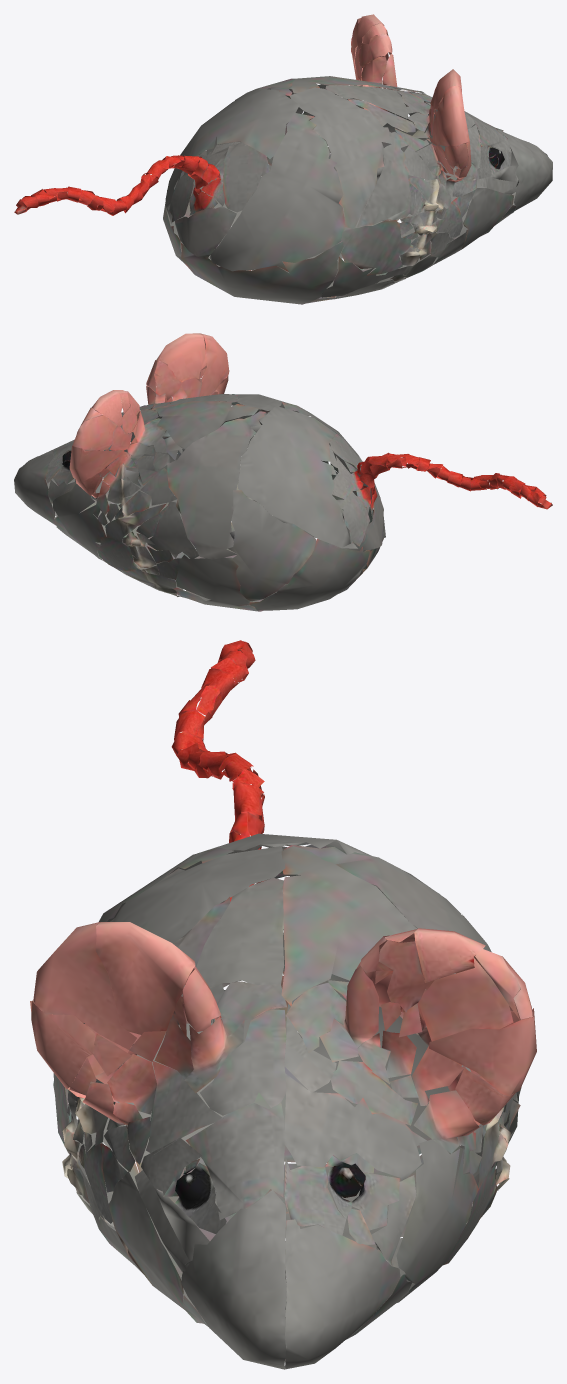
The model's file is toy_mouse.glb.
3 renders of one model, top to bottom at view 1: azimuth 30°, elevation 25°; view 2: azimuth 150°, elevation 25°; view 3: azimuth 270°, elevation 25°, orthographic. The views are drawn at different scales.
Visible parts, largest first — view 1: toy_mouse; view 2: toy_mouse; view 3: toy_mouse.
Boxes of the visible parts, x1=… form: toy_mouse: x1=14, y1=14, x2=552, y2=304; toy_mouse: x1=14, y1=333, x2=552, y2=611; toy_mouse: x1=30, y1=640, x2=536, y2=1369.
Bounding box in the file's own units: 0.1156 × 0.0406 × 0.0485.
Materials: 1 (1 with a texture image).
